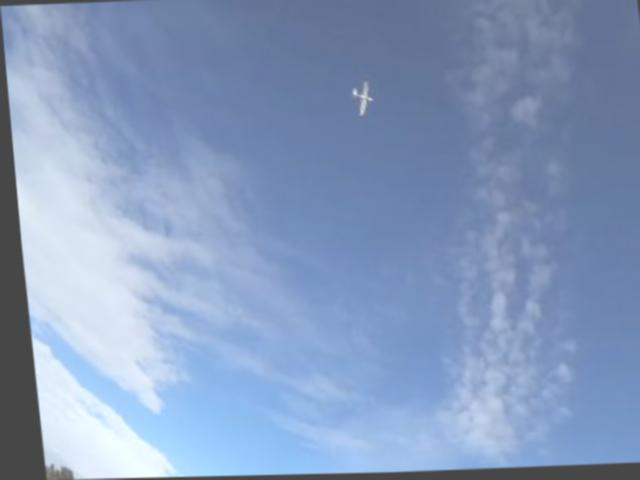uav: (342, 71, 376, 122)
